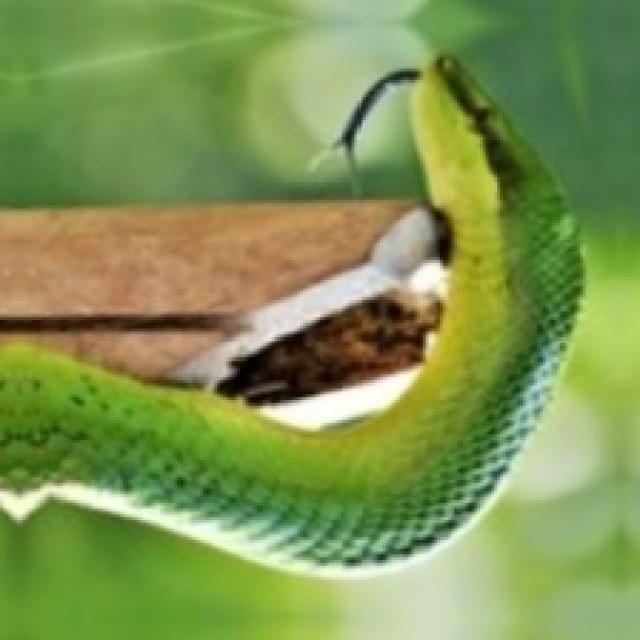red-tailed green ratsnake: (0, 57, 580, 563)
